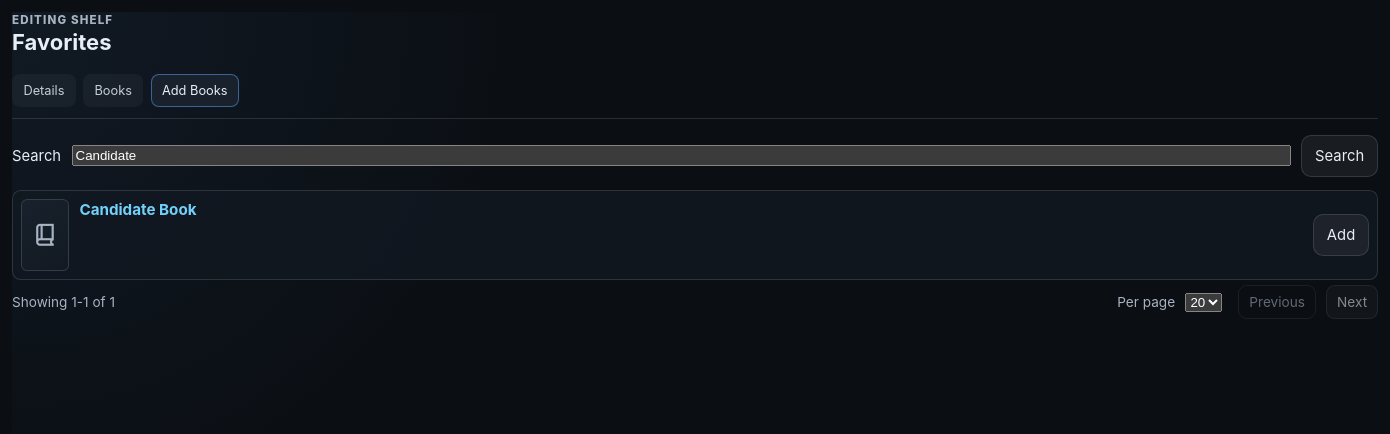
Test: ShelfEditOrchestrator item mutations › reports add as committed when only the summary refresh fails
The image size is (1390, 434).
Click the button "Add": (1341, 235) [1313,214,1369,256]
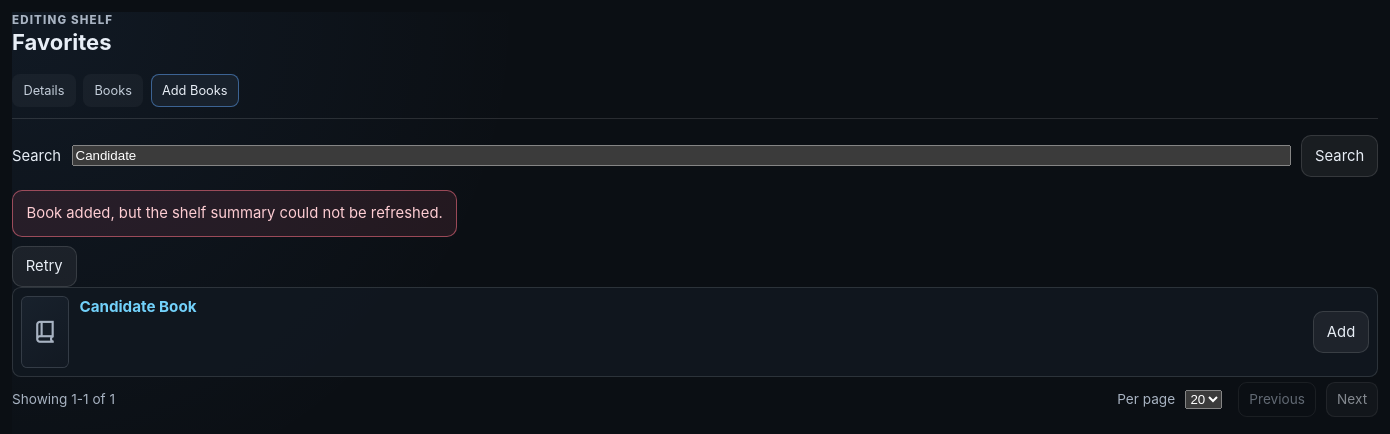
Expected: the button "Add" is enabled, [1313,311,1369,353]
Expected: the message "Book added, but the shelf summary could not be refreshed." is shown, [12,190,457,237]
